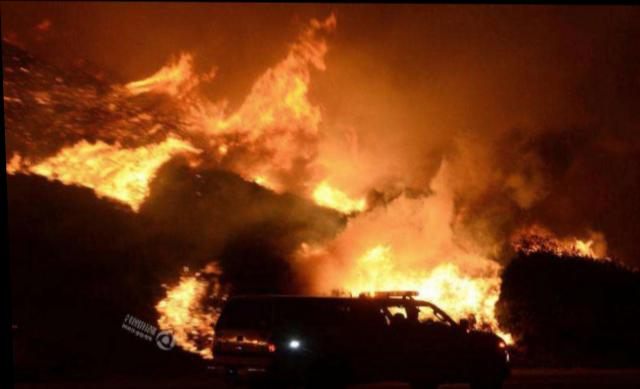fire: (24, 18, 373, 214), (309, 227, 505, 340), (151, 262, 229, 352), (520, 228, 608, 260)
